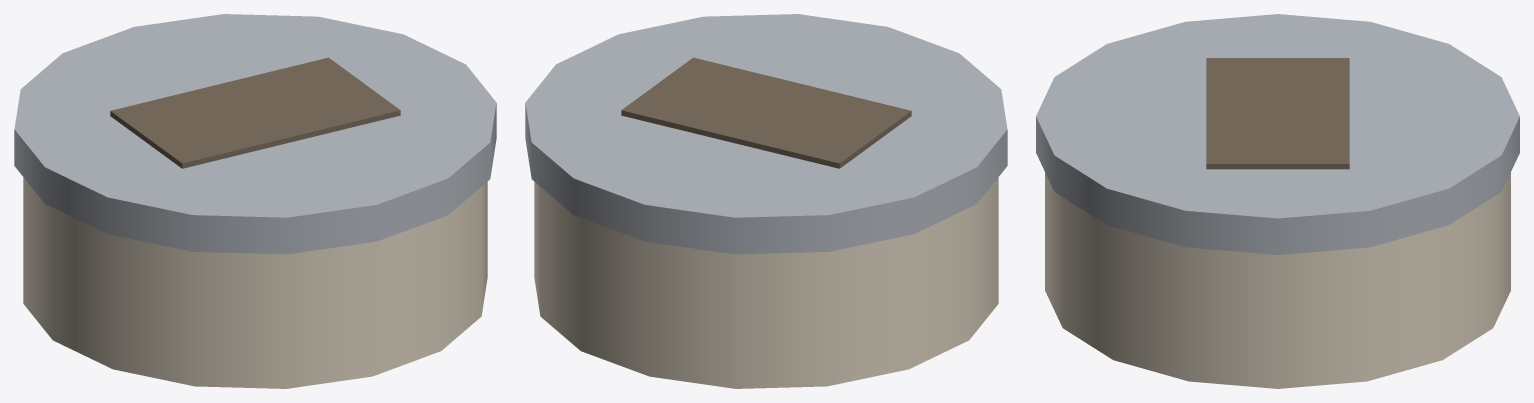
Rendered from SV_MP_SKU_05_v01_lod1.glb.
The picture shows the model from 3 angles, left to right: view 1: azimuth 30°, elevation 25°; view 2: azimuth 150°, elevation 25°; view 3: azimuth 270°, elevation 25°; orthographic projection.
Visible parts, largest first — view 1: mproto_SV_MP_SKU_05_v01; view 2: mproto_SV_MP_SKU_05_v01; view 3: mproto_SV_MP_SKU_05_v01.
Boxes of the visible parts, bbox=[...] form: mproto_SV_MP_SKU_05_v01: bbox=[14, 14, 496, 388]; mproto_SV_MP_SKU_05_v01: bbox=[525, 14, 1007, 388]; mproto_SV_MP_SKU_05_v01: bbox=[1036, 14, 1519, 388].
Size of the model in its own units: 0.054 by 0.0221 by 0.054.
